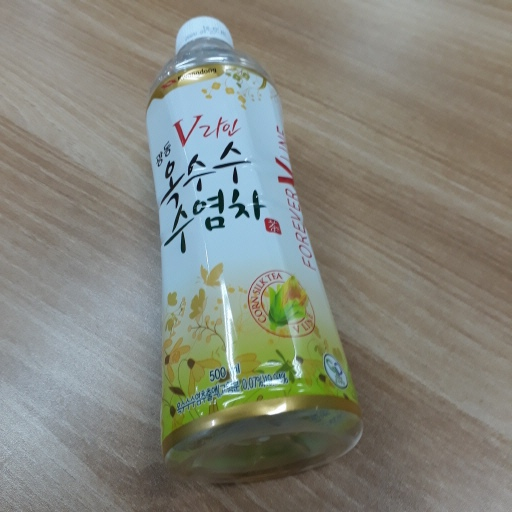Plastic_0: (140, 16, 366, 481)
